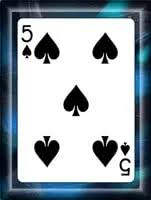five of spades: (17, 16, 135, 185)
